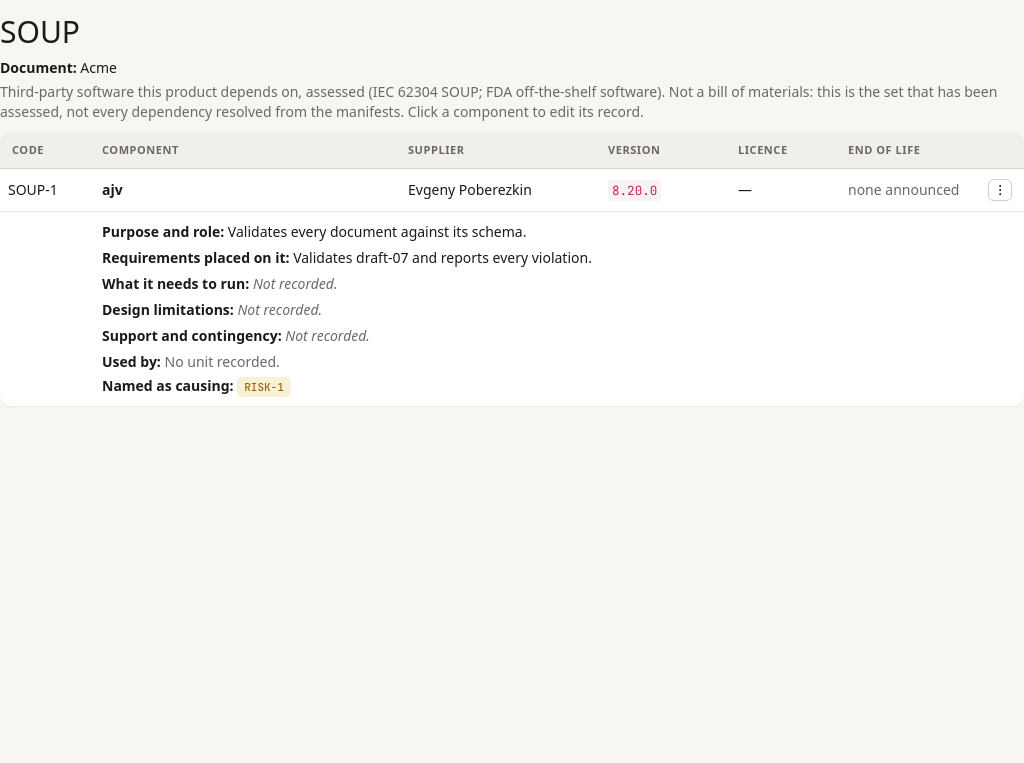
Test: SoupTable — clicking opens the whole record › offers only software units as users of the component
The image size is (1024, 763).
Click the text "ajv": [112, 189] box [102, 180, 123, 199]
(page scrolled)
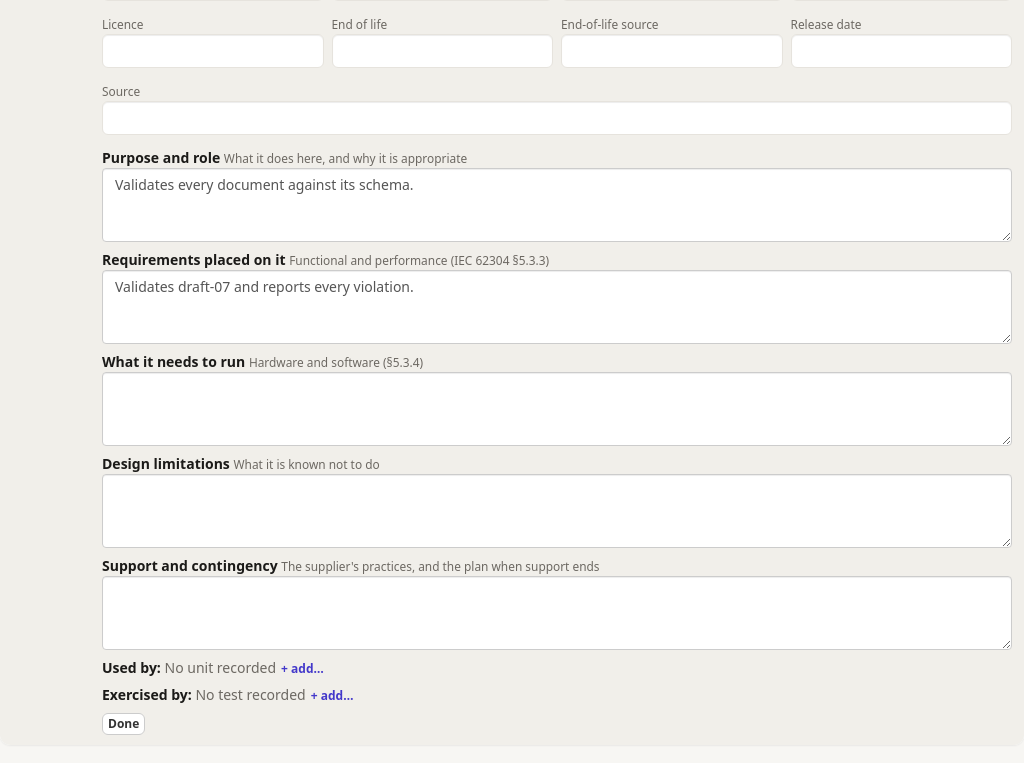
Click the button "+ add…" next to "No unit recorded": [302, 669] box [276, 659, 329, 679]
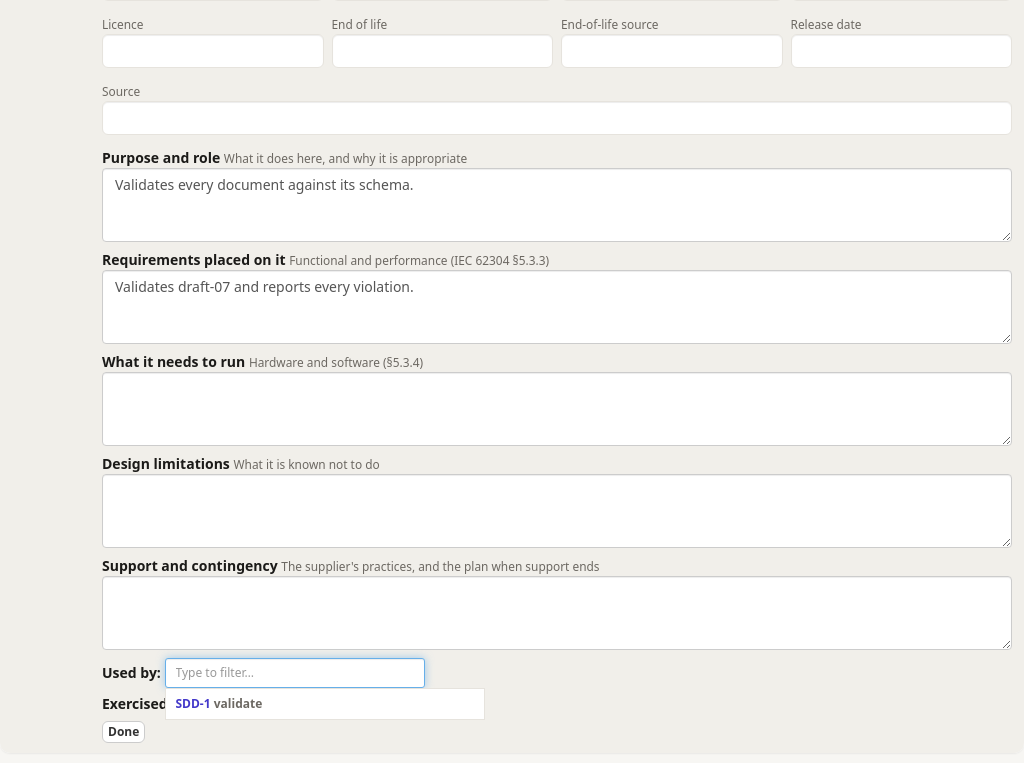
Check: the option "SDD-1 validate" is shown, box [170, 693, 480, 715]
